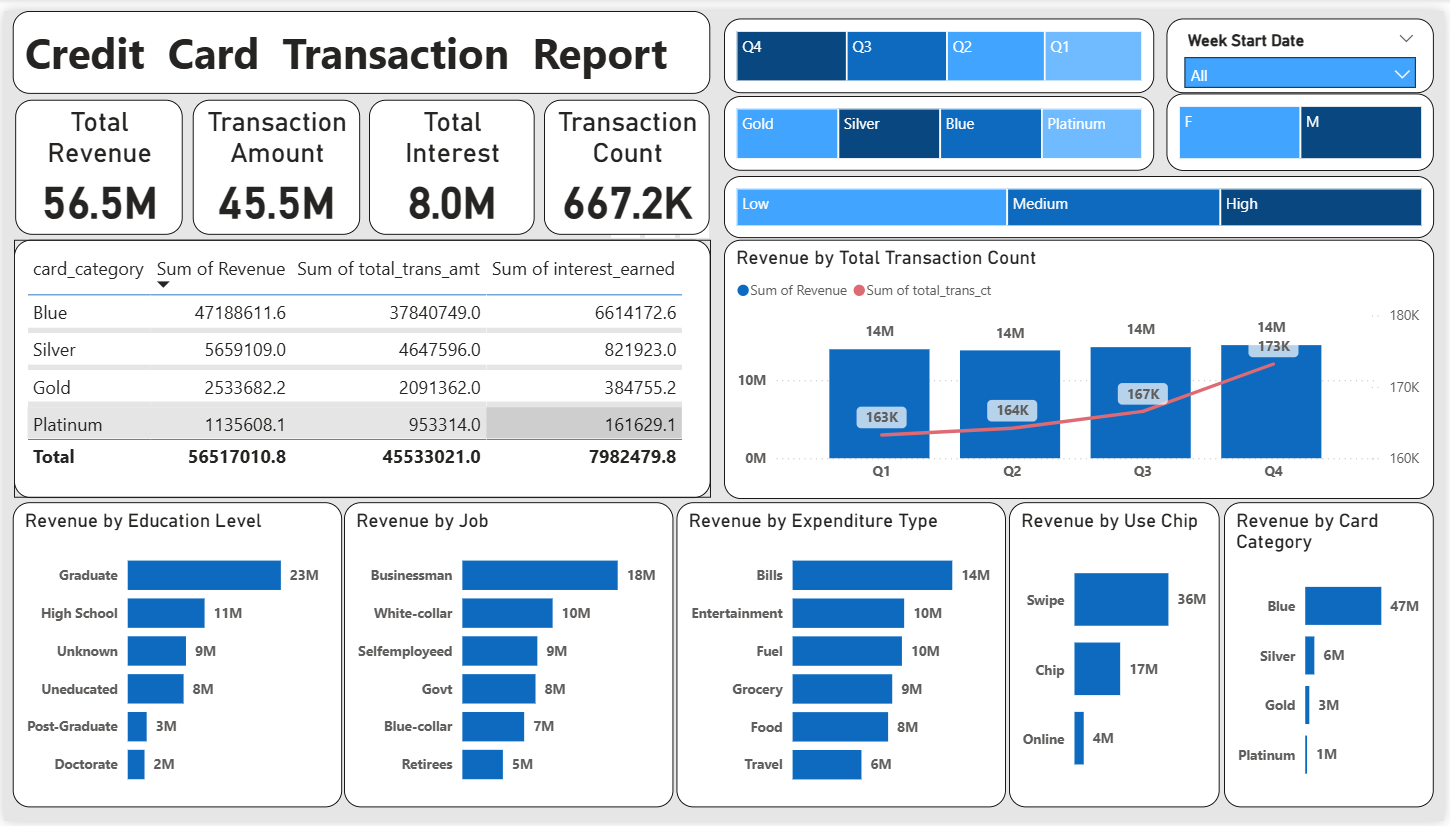

Layout of this report page (visuals, bound fields, positions):
{"tool":"powerbi","page":{"name":"CC Transaction","canvas":[1280,720],"ordinal":1},"visuals":[{"type":"textbox","box":[7.5,0,620,73.8],"z":0},{"type":"lineStackedColumnComboChart","title":"Revenue by Total Transaction Count","fields":{"Category":["public cc_detail.qtr"],"Y":["Sum(public cc_detail.Revenue)"],"Y2":["Sum(public cc_detail.total_trans_ct)"]},"box":[640,203.3,631.1,230],"z":1000},{"type":"barChart","title":"Revenue by Expenditure Type","fields":{"Y":["Sum(public cc_detail.Revenue)"],"Category":["public cc_detail.exp_type"]},"box":[597.9,436.4,292.9,271.4],"z":2000},{"type":"barChart","title":"Revenue by Education Level","fields":{"Y":["Sum(public cc_detail.Revenue)"],"Category":["public cust_detail.education_level"]},"box":[7.5,436.2,292.5,271.2],"z":3000},{"type":"barChart","title":"Revenue by Job","fields":{"Y":["Sum(public cc_detail.Revenue)"],"Category":["public cust_detail.customer_job"]},"box":[302.5,436.2,292.5,271.2],"z":4000},{"type":"barChart","title":"Revenue by Card Category","fields":{"Y":["Sum(public cc_detail.Revenue)"],"Category":["public cc_detail.card_category"]},"box":[1084.4,436.7,186.7,271.1],"z":5000},{"type":"barChart","title":"Revenue by Use Chip","fields":{"Y":["Sum(public cc_detail.Revenue)"],"Category":["public cc_detail.use_chip"]},"box":[893.3,436.7,187,271.1],"z":6000},{"type":"tableEx","fields":{"Values":["public cc_detail.card_category","Sum(public cc_detail.Revenue)","Sum(public cc_detail.total_trans_amt)","Sum(public cc_detail.interest_earned)"]},"box":[8.8,203.5,619.3,229.2],"z":7000},{"type":"card","title":"Total Revenue","fields":{"Values":["Sum(public cc_detail.Revenue)"]},"box":[9.5,78.4,148.6,120.3],"z":8000},{"type":"card","title":"Transaction Amount","fields":{"Values":["Sum(public cc_detail.total_trans_amt)"]},"box":[167.6,78.4,148.6,120.3],"z":9000},{"type":"card","title":"Total Interest","fields":{"Values":["Sum(public cc_detail.interest_earned)"]},"box":[324.3,78.4,147.3,120.3],"z":10000},{"type":"card","title":"Transaction Count","fields":{"Values":["Sum(public cc_detail.total_trans_ct)"]},"box":[479.7,78.4,147.3,120.3],"z":11000},{"type":"slicer","fields":{"Values":["public cc_detail.week_start_date"]},"box":[1033.3,6.7,237.8,66.7],"z":12000},{"type":"treemap","fields":{"Group":["public cc_detail.qtr"],"Values":["Avg(public cust_detail.client_num)"]},"box":[640,6.7,382.2,66.7],"z":13000},{"type":"treemap","fields":{"Group":["public cust_detail.gender"],"Values":["Avg(public cc_detail.client_num)"]},"box":[1033.3,73.3,237.8,68.9],"z":14000},{"type":"treemap","fields":{"Group":["public cc_detail.card_category"],"Values":["Avg(public cust_detail.client_num)"]},"box":[640,75.6,382.2,66.7],"z":15000},{"type":"treemap","fields":{"Values":["Sum(public cc_detail.client_num)"],"Group":["public cust_detail.Income Group"]},"box":[640,146.7,631.1,55.6],"z":16000}]}

Visuals, with their boxes in screenshot pixels (x1, y1, x2, y2), scaled from the page's 1280x720 canvas onto the 1450x826 screenshot:
textbox: [x1=8, y1=0, x2=711, y2=85]
"Revenue by Total Transaction Count" lineStackedColumnComboChart: [x1=725, y1=233, x2=1440, y2=497]
"Revenue by Expenditure Type" barChart: [x1=677, y1=501, x2=1009, y2=812]
"Revenue by Education Level" barChart: [x1=8, y1=500, x2=340, y2=812]
"Revenue by Job" barChart: [x1=343, y1=500, x2=674, y2=812]
"Revenue by Card Category" barChart: [x1=1228, y1=501, x2=1440, y2=812]
"Revenue by Use Chip" barChart: [x1=1012, y1=501, x2=1224, y2=812]
tableEx - public cc_detail.card_category x Sum(public cc_detail.Revenue): [x1=10, y1=233, x2=712, y2=496]
"Total Revenue" card: [x1=11, y1=90, x2=179, y2=228]
"Transaction Amount" card: [x1=190, y1=90, x2=358, y2=228]
"Total Interest" card: [x1=367, y1=90, x2=534, y2=228]
"Transaction Count" card: [x1=543, y1=90, x2=710, y2=228]
slicer - public cc_detail.week_start_date: [x1=1171, y1=8, x2=1440, y2=84]
treemap - public cc_detail.qtr x Avg(public cust_detail.client_num): [x1=725, y1=8, x2=1158, y2=84]
treemap - public cust_detail.gender x Avg(public cc_detail.client_num): [x1=1171, y1=84, x2=1440, y2=163]
treemap - public cc_detail.card_category x Avg(public cust_detail.client_num): [x1=725, y1=87, x2=1158, y2=163]
treemap - Sum(public cc_detail.client_num) x public cust_detail.Income Group: [x1=725, y1=168, x2=1440, y2=232]
